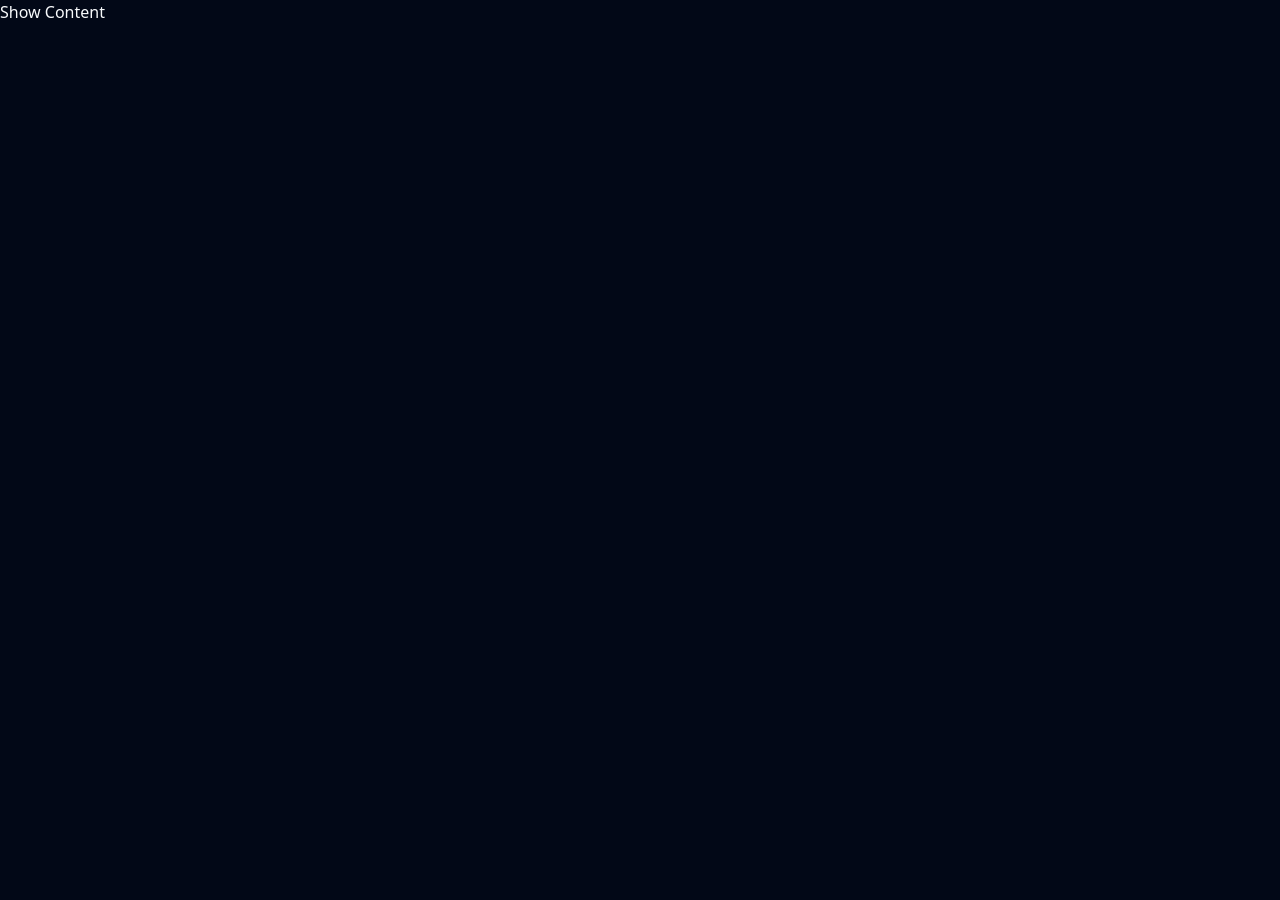
Dialog组件系统 › DialogContent › 应该正确渲染对话框内容
Click the button "Show Content" at {"x": 52, "y": 12}, box [0,0,105,24]
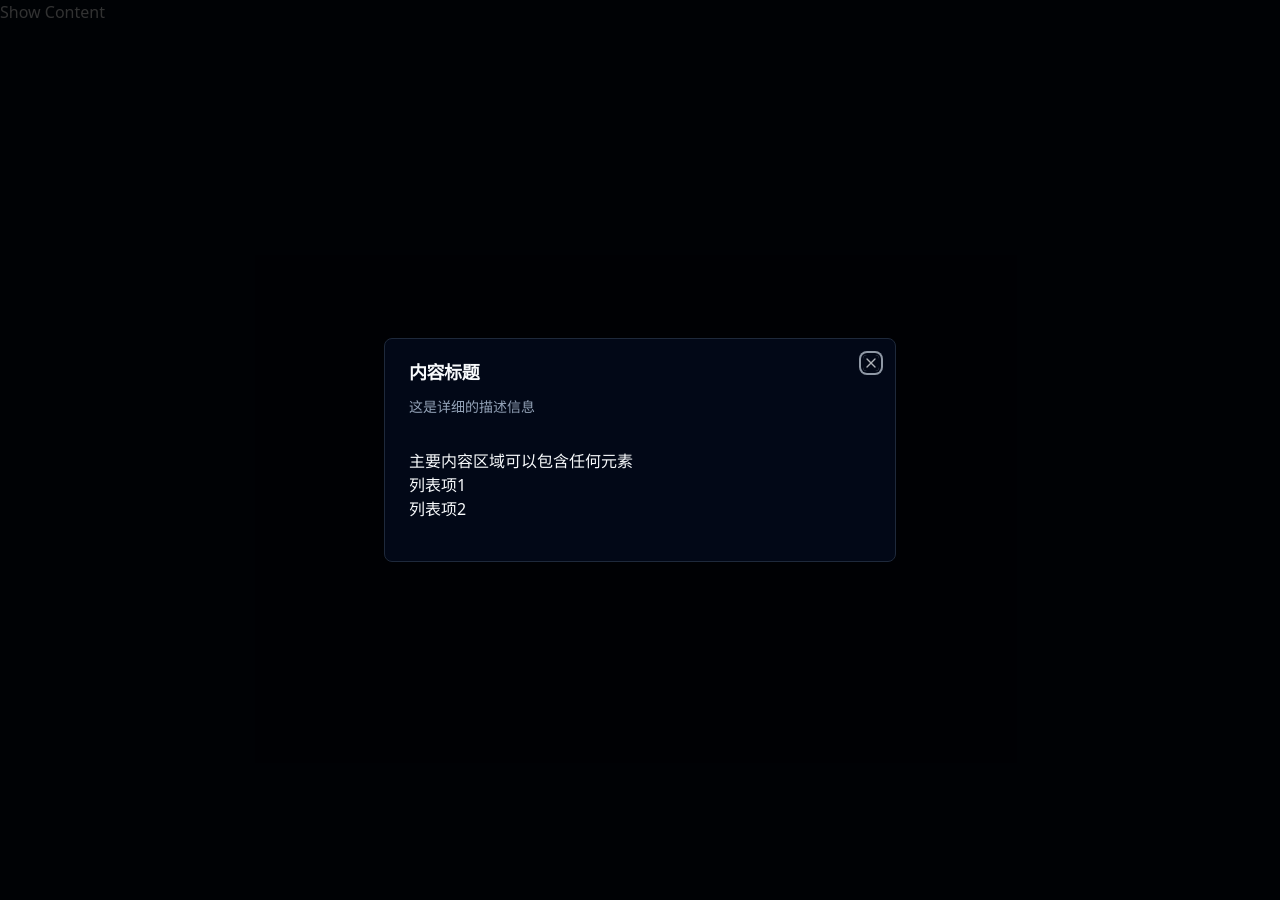
Expected: the dialog with test id "rich-dialog" is shown, [384,338,896,562]
Expected: the heading "内容标题" is shown, [409,360,479,384]
Expected: the text "这是详细的描述信息" is shown, [409,397,535,416]
